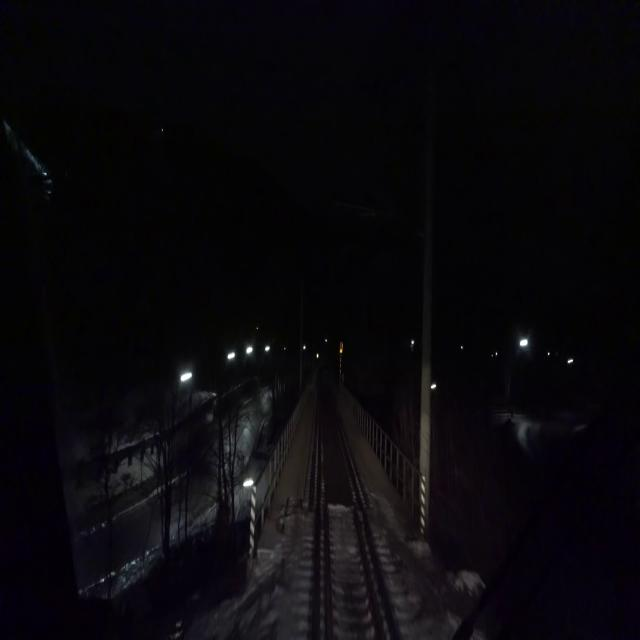rail-track: (320, 397, 378, 639), (363, 524, 394, 639)
